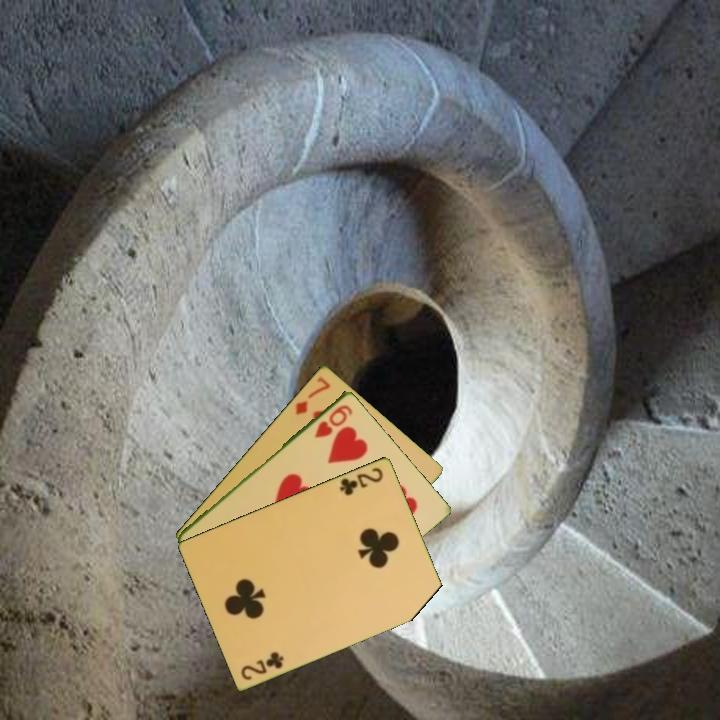2c: (336, 463, 386, 498), (237, 648, 287, 683)
6h: (311, 401, 356, 440)
7d: (291, 373, 333, 417)
